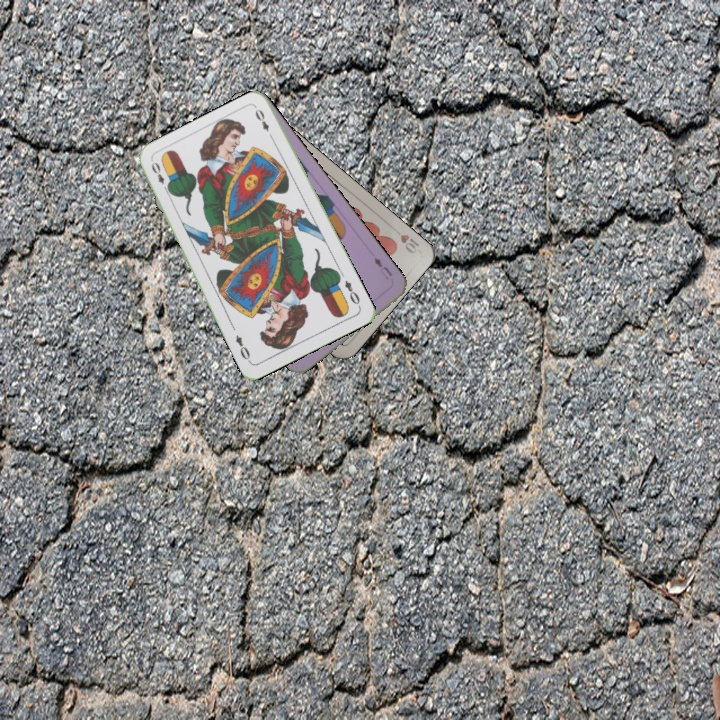EO: (147, 158, 172, 195), (341, 276, 363, 310)
EU: (370, 253, 395, 282)
H10: (388, 223, 422, 256)
